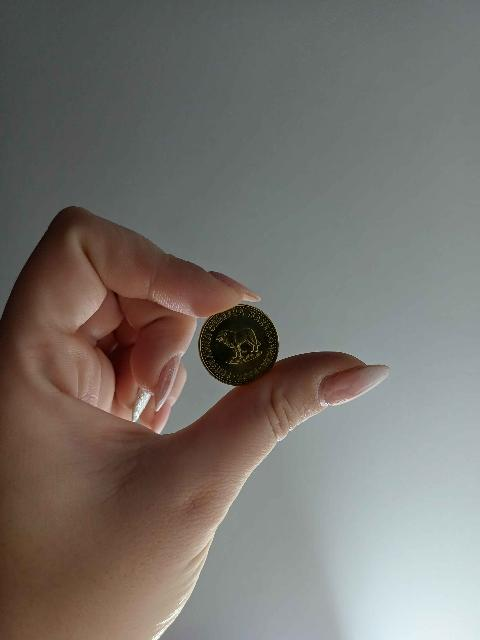coin: (199, 304, 278, 385)
